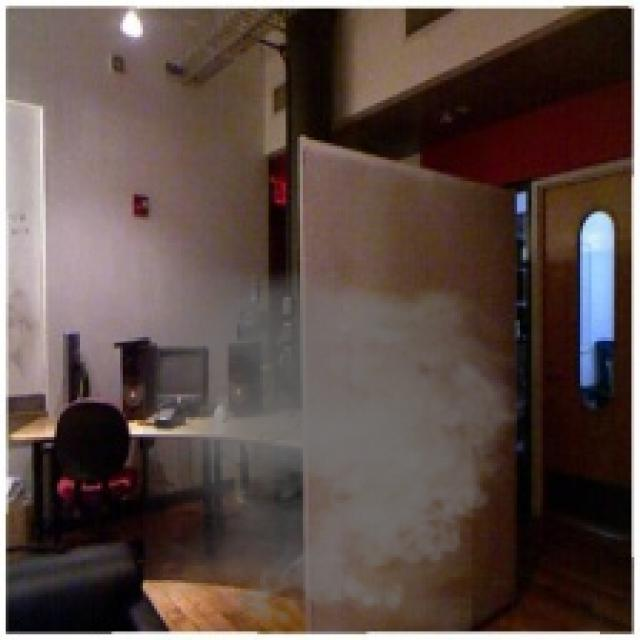smoke: (143, 266, 537, 634)
